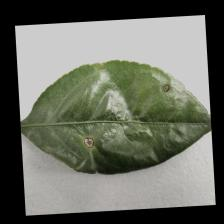canker: (62, 77, 183, 153)
